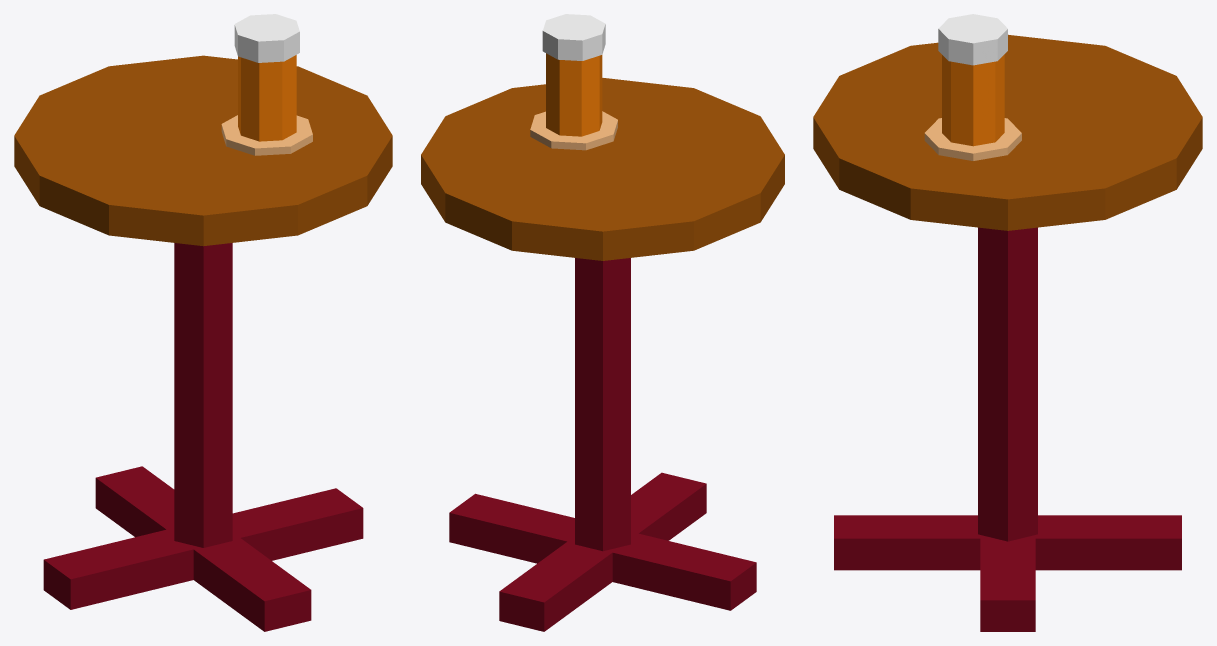
The model's file is sidetable.glb.
The picture shows the model from 3 angles, left to right: view 1: azimuth 30°, elevation 25°; view 2: azimuth 150°, elevation 25°; view 3: azimuth 270°, elevation 25°; orthographic projection. The views are drawn at different scales.
Parts seen in each view (by area): view 1: Top; view 2: Top; view 3: Top.
Boxes of the visible parts, left/top/right/bottom form: Top: left=14, top=14, right=392, bottom=631; Top: left=421, top=14, right=784, bottom=631; Top: left=813, top=14, right=1202, bottom=631.
Bounding box in the file's own units: 0.56 × 0.8775 × 0.56.
